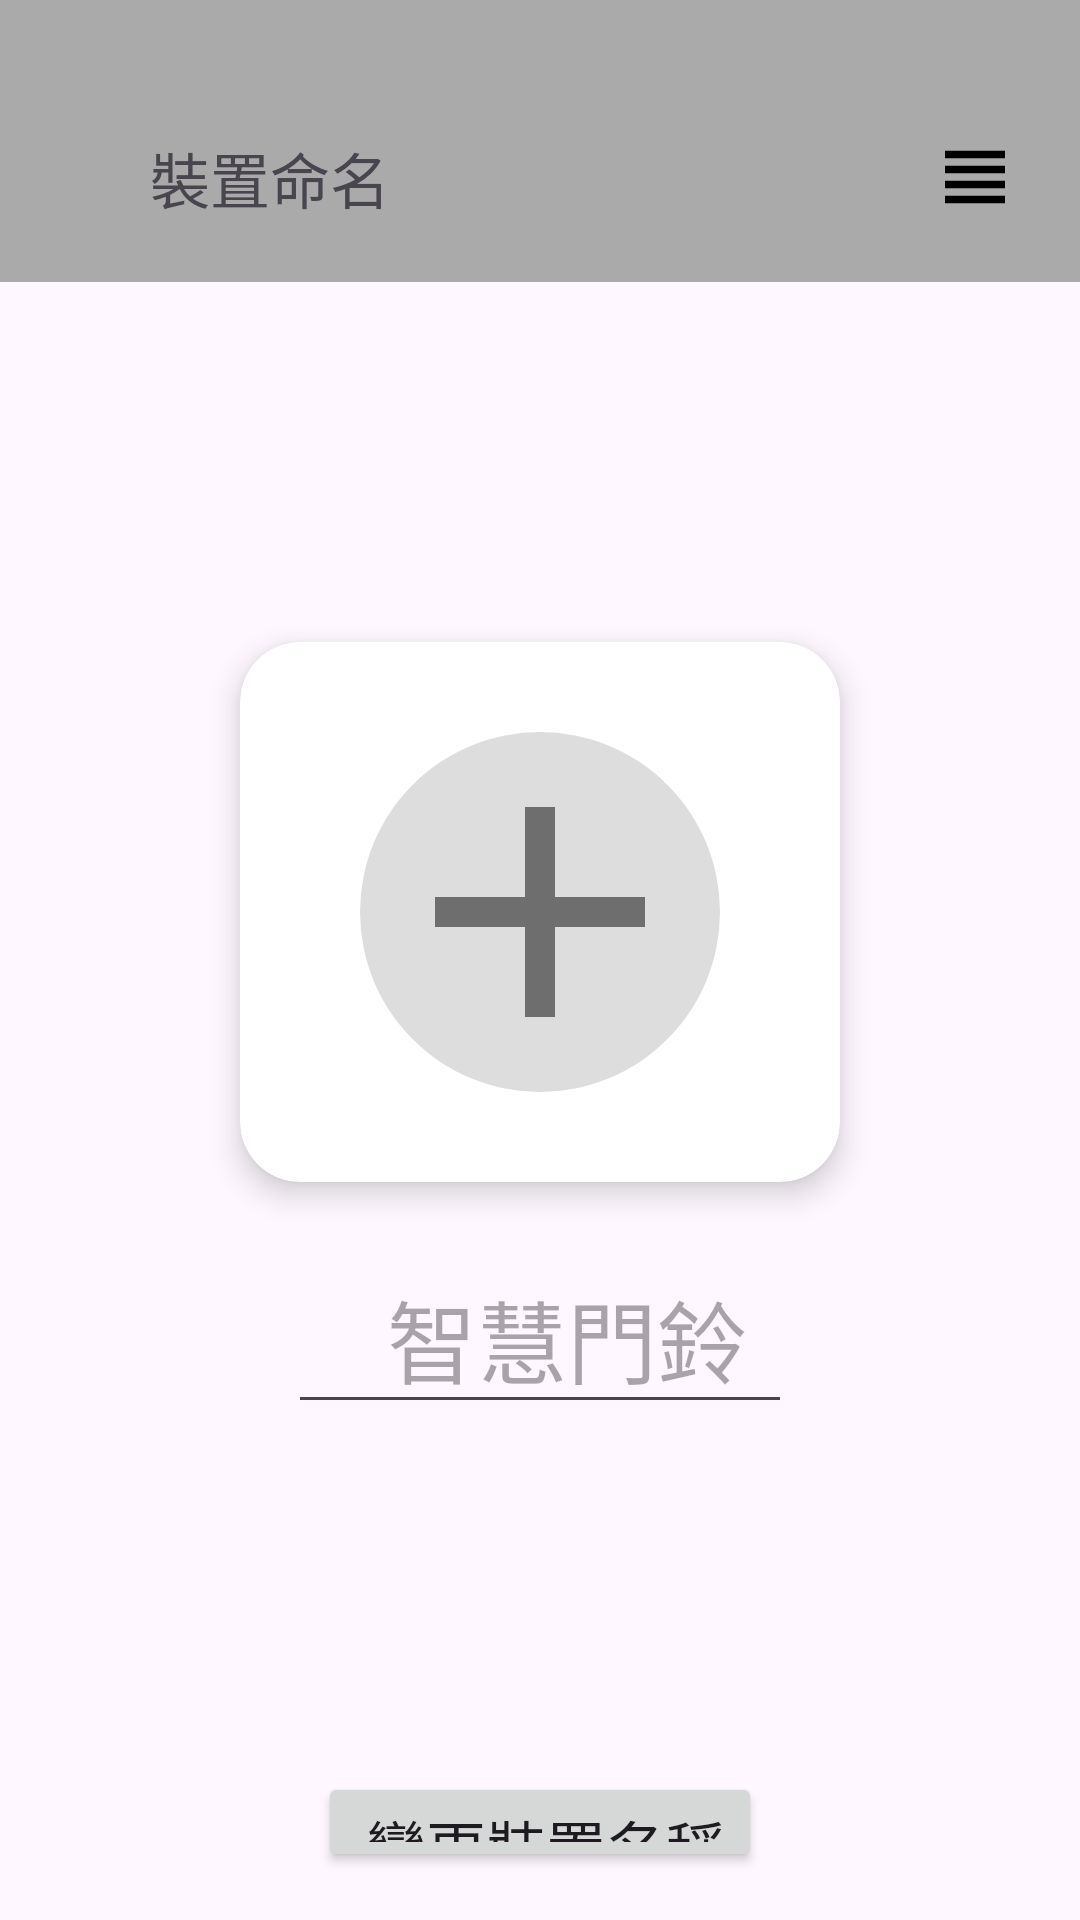

Where to tap for icons on this 1080x1920 app screen, as (x=x, y=y):
上傳產品圖: (x=540, y=912)
其他: (x=975, y=177)
